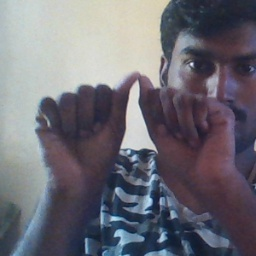A: (61, 70, 215, 173)
